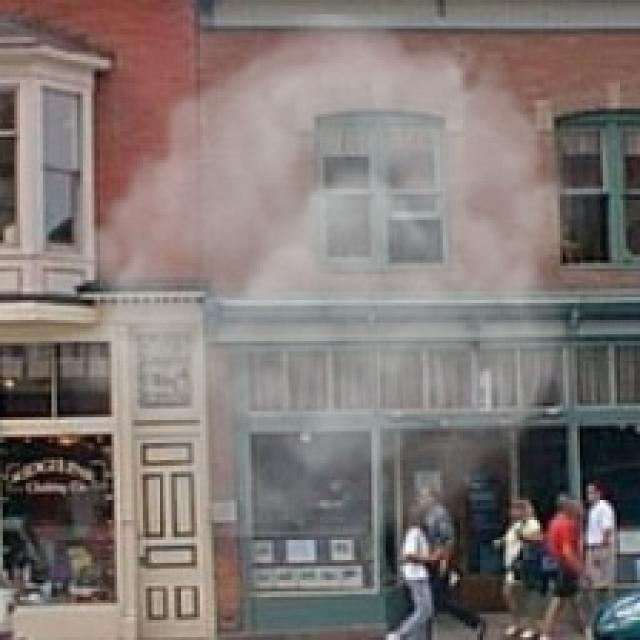smoke: (51, 14, 606, 537)
